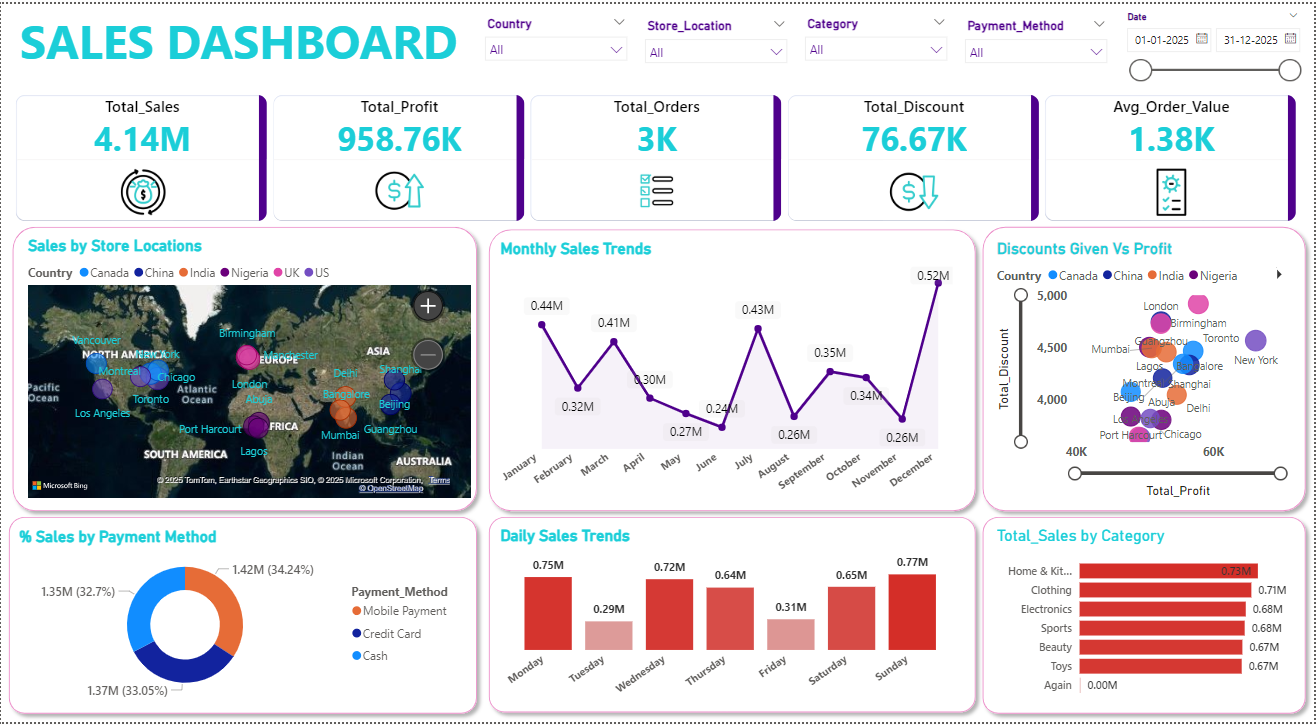

What the dashboard file says about the page in this screenshot:
{"tool":"powerbi","page":{"name":"Page 1","canvas":[1500,820],"ordinal":0},"visuals":[{"type":"cardVisual","fields":{"Data":["Sales_Data.Total_Sales","Sales_Data.Total_Profit","Sales_Data.Total_Orders","Sales_Data.Total_Discount","Sales_Data.Avg_Order_Value"]},"box":[0,87.1,1500,178.6],"z":0},{"type":"textbox","box":[0,0,542.9,87.1],"z":1000},{"type":"slicer","fields":{"Values":["Sales_Data.Country"]},"box":[542.9,8.6,182.9,70],"z":2000},{"type":"slicer","fields":{"Values":["Sales_Data.Store_Location"]},"box":[725.7,11.4,182.9,70],"z":3000},{"type":"slicer","fields":{"Values":["Sales_Data.Category"]},"box":[908.6,8.6,182.9,70],"z":4000},{"type":"slicer","fields":{"Values":["Sales_Data.Payment_Method"]},"box":[1091.4,11.4,182.9,70],"z":5000},{"type":"slicer","fields":{"Values":["Sales_Data.Date"]},"box":[1274.3,2.9,220,97.1],"z":6000},{"type":"shape","box":[4.3,245.7,548.6,342.9],"z":7000},{"type":"map","title":"Sales  by Store Locations","fields":{"Category":["Sales_Data.Store_Location"],"Size":["Sales_Data.Total_Sales"],"Series":["Sales_Data.Country"]},"box":[25.7,265.7,517.1,304.3],"z":8000},{"type":"shape","box":[548.6,248.6,574.3,340],"z":9000},{"type":"lineChart","title":"Monthly Sales Trends","fields":{"Category":["Sales_Data.Month Name"],"Y":["Sales_Data.Total_Sales"]},"box":[566.3,268,527.1,307.1],"z":10000},{"type":"shape","box":[548.6,577.1,574.3,241.4],"z":11000},{"type":"columnChart","title":"Daily Sales Trends","fields":{"Category":["Sales_Data.Day Name"],"Y":["Sales_Data.Total_Sales"]},"box":[565.7,597.1,537.1,204.3],"z":12000},{"type":"shape","box":[0,577.1,552.9,242.9],"z":13000},{"type":"donutChart","title":"% Sales by Payment Method","fields":{"Category":["Sales_Data.Payment_Method"],"Y":["Sales_Data.Total_Sales"]},"box":[15.7,598.6,515.7,201.4],"z":14000},{"type":"shape","box":[1112.9,245.7,387.1,342.9],"z":15000},{"type":"scatterChart","title":"Discounts Given Vs Profit","fields":{"X":["Sales_Data.Total_Profit"],"Y":["Sales_Data.Total_Discount"],"Category":["Sales_Data.Store_Location"],"Series":["Sales_Data.Country"],"Size":["Sales_Data.Total_Orders"]},"box":[1132.9,268.6,347.1,300],"z":16000},{"type":"shape","box":[1112.9,577.1,387.1,242.9],"z":16001},{"type":"barChart","fields":{"Category":["Sales_Data.Category"],"Y":["Sales_Data.Total_Sales"]},"box":[1132.9,597.1,347.1,204.3],"z":16002}]}

Visuals, with their boxes in screenshot pixels (x1, y1, x2, y2), scaled from the page's 1500x820 canvas onto the 1316x725 screenshot:
cardVisual - Sales_Data.Total_Sales x Sales_Data.Total_Profit: 0:77:1315:235
textbox: 0:0:476:77
slicer - Sales_Data.Country: 476:8:637:69
slicer - Sales_Data.Store_Location: 637:10:797:72
slicer - Sales_Data.Category: 797:8:958:69
slicer - Sales_Data.Payment_Method: 958:10:1118:72
slicer - Sales_Data.Date: 1118:3:1311:88
shape: 4:217:485:520
"Sales  by Store Locations" map: 23:235:476:504
shape: 481:220:985:520
"Monthly Sales Trends" lineChart: 497:237:959:508
shape: 481:510:985:724
"Daily Sales Trends" columnChart: 496:528:968:709
shape: 0:510:485:724
"% Sales by Payment Method" donutChart: 14:529:466:707
shape: 976:217:1315:520
"Discounts Given Vs Profit" scatterChart: 994:237:1298:503
shape: 976:510:1315:724
barChart - Sales_Data.Category x Sales_Data.Total_Sales: 994:528:1298:709
